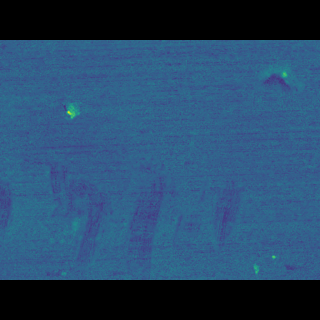Loch: (0, 153, 254, 244)
